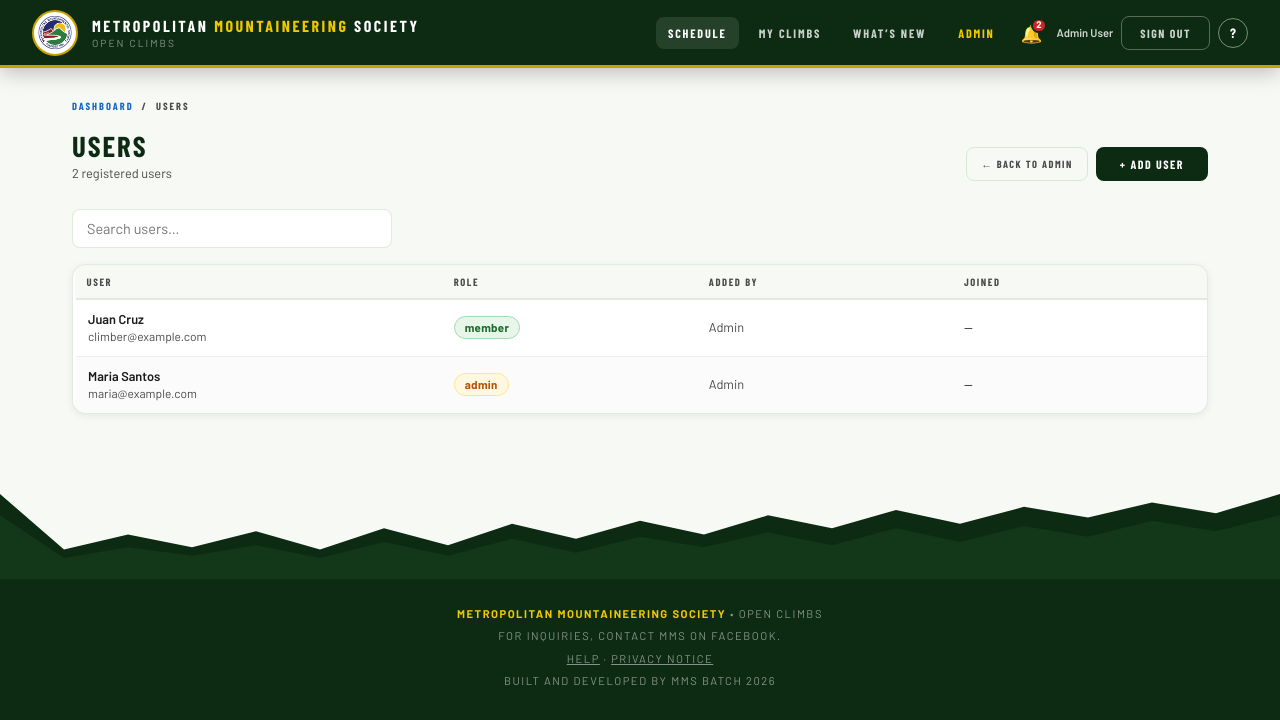
Test case: Admin UsersManage › opens the user detail modal pre-filled with the current name and email
Click the button "Juan Cruz": (116, 319) 88,310 -> 144,328
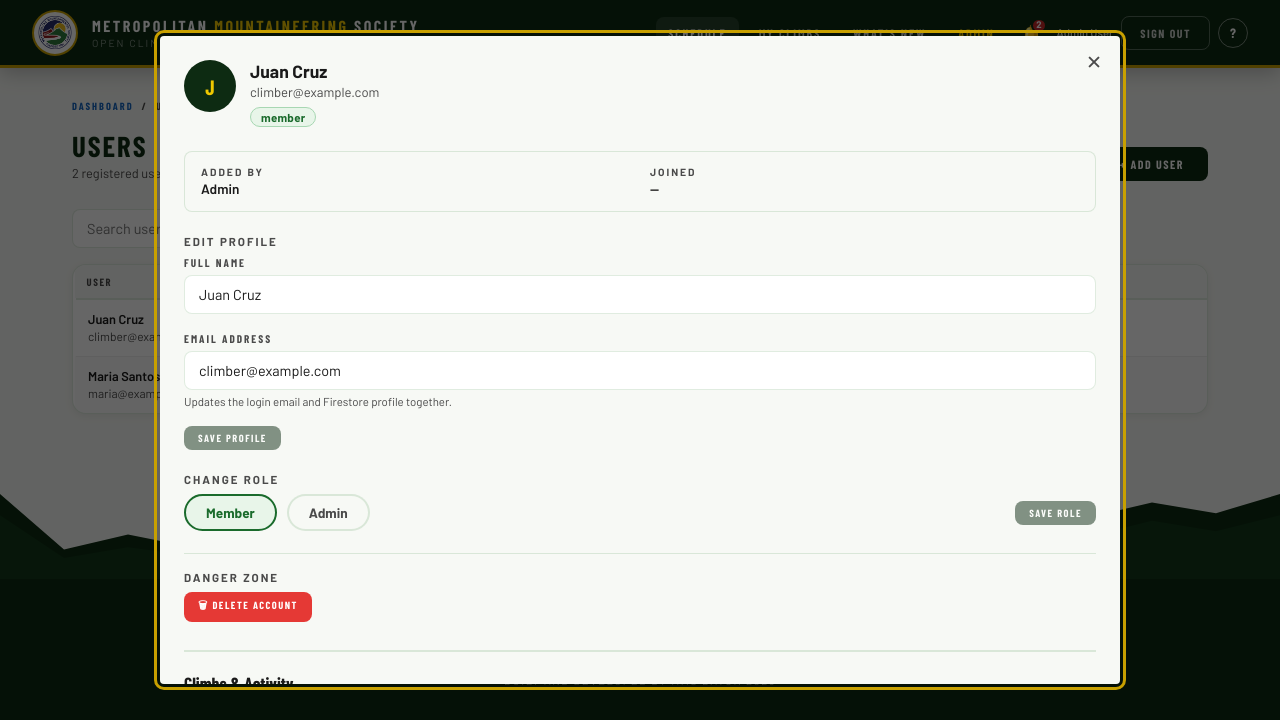
Result: the text "Edit Profile" is shown at 184,234 -> 278,248
Result: the field showing "Juan Cruz" is shown at 184,275 -> 1096,314
Result: the field showing "climber@example.com" is shown at 184,351 -> 1096,390
